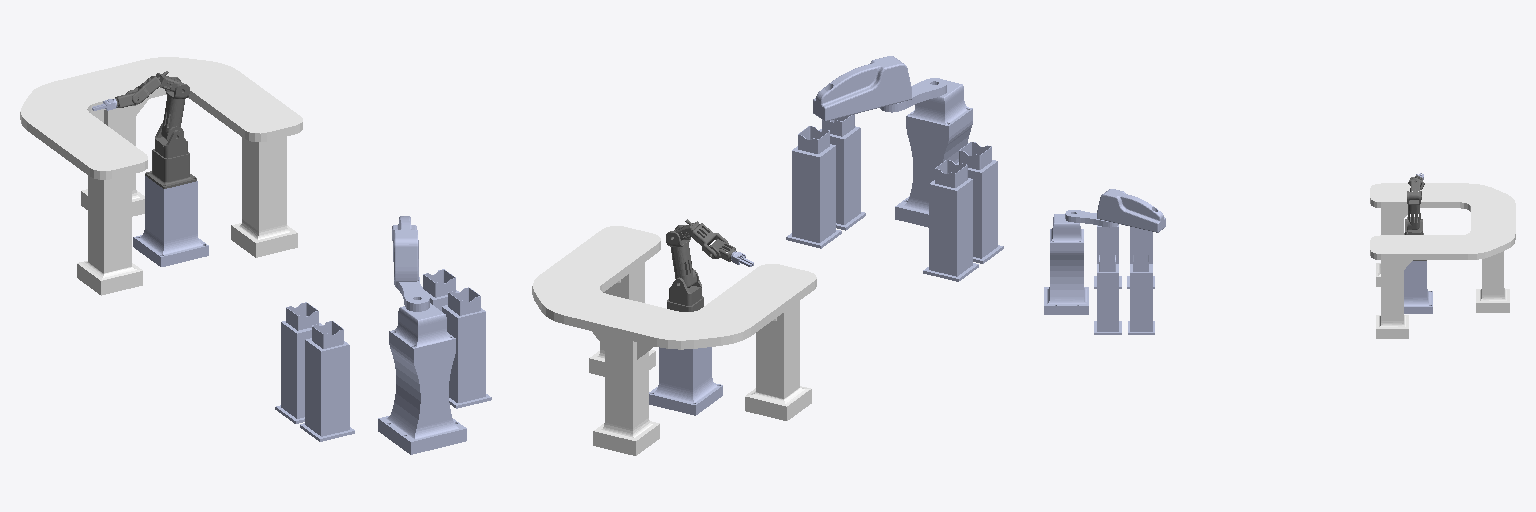
URDF robot description (fertig):
<?xml version="1.0" encoding="utf-8" ?>
<!-- This URDF was automatically created by SolidWorks to URDF Exporter! Originally created by [author] ([email redacted]) 
     Commit Version: 1.6.0-4-g7f85cfe  Build Version: 1.6.7995.38578
     For more information, please see http://wiki.ros.org/sw_urdf_exporter -->
<robot name="fertig">
    <link name="world_link">
        <inertial>
            <origin xyz="-0.379999991843833 -0.241999995946268 0.282642145469613" rpy="0 0 0" />
            <mass value="56.5143635061382" />
            <inertia ixx="3.10383758638064" ixy="9.38103874984791E-07" ixz="-4.57009880018047E-07" iyy="3.00109559506483" iyz="3.89931023738117E-08" izz="0.915005919197952" />
        </inertial>
        <visual>
            <origin xyz="0 0 0" rpy="0 0 0" />
            <geometry>
                <mesh filename="package://fertig/meshes/world_link.STL" />
            </geometry>
            <material name="">
                <color rgba="0.792156862745098 0.819607843137255 0.933333333333333 1" />
            </material>
        </visual>
        <collision>
            <origin xyz="0 0 0" rpy="0 0 0" />
            <geometry>
                <mesh filename="package://fertig/meshes/world_link.STL" />
            </geometry>
        </collision>
    </link>
    <link name="scara_link_base">
        <inertial>
            <origin xyz="4.11981024295294E-09 -0.00144952651535979 0.0824742549468586" rpy="0 0 0" />
            <mass value="10.0938987184175" />
            <inertia ixx="0.0864487528577416" ixy="-7.67600083955194E-08" ixz="-3.54288604367275E-09" iyy="0.0762174394798054" iyz="0.000783155397267453" izz="0.100368960083761" />
        </inertial>
        <visual>
            <origin xyz="0 0 0" rpy="0 0 0" />
            <geometry>
                <mesh filename="package://fertig/meshes/scara_link_base.STL" />
            </geometry>
            <material name="">
                <color rgba="0.792156862745098 0.819607843137255 0.933333333333333 1" />
            </material>
        </visual>
        <collision>
            <origin xyz="0 0 0" rpy="0 0 0" />
            <geometry>
                <mesh filename="package://fertig/meshes/scara_link_base.STL" />
            </geometry>
        </collision>
    </link>
    <joint name="scara_joint_base" type="fixed">
        <origin xyz="-0.38 -0.242 0.650000000000001" rpy="0 0 0" />
        <parent link="world_link" />
        <child link="scara_link_base" />
        <axis xyz="0 0 0" />
    </joint>
    <link name="scara_link_1">
        <inertial>
            <origin xyz="0.0554575444614114 0.165564551542479 0.0275000000000013" rpy="0 0 0" />
            <mass value="3.3230838247481" />
            <inertia ixx="0.0576270026353464" ixy="-0.0171642772796708" ixz="-2.75711369663395E-18" iyy="0.0119905480517804" iyz="-7.73107852038133E-18" izz="0.0679421595859383" />
        </inertial>
        <visual>
            <origin xyz="0 0 0" rpy="0 0 0" />
            <geometry>
                <mesh filename="package://fertig/meshes/scara_link_1.STL" />
            </geometry>
            <material name="">
                <color rgba="0.792156862745098 0.819607843137255 0.933333333333333 1" />
            </material>
        </visual>
        <collision>
            <origin xyz="0 0 0" rpy="0 0 0" />
            <geometry>
                <mesh filename="package://fertig/meshes/scara_link_1.STL" />
            </geometry>
        </collision>
    </link>
    <joint name="scara_joint_1" type="revolute">
        <origin xyz="0 0.062 0.186" rpy="0 0 0" />
        <parent link="scara_link_base" />
        <child link="scara_link_1" />
        <axis xyz="0 0 -1" />
        <limit lower="-2.5" upper="2.5" effort="0" velocity="0" />
    </joint>
    <link name="scara_link_2">
        <inertial>
            <origin xyz="0.084623793875894 0.153636740232548 0.109919168493605" rpy="0 0 0" />
            <mass value="17.9237237949378" />
            <inertia ixx="0.486676041203974" ixy="-0.20205161891764" ixz="0.0238411475845364" iyy="0.231136918692326" iyz="0.043284241977989" izz="0.538887927908261" />
        </inertial>
        <visual>
            <origin xyz="0 0 0" rpy="0 0 0" />
            <geometry>
                <mesh filename="package://fertig/meshes/scara_link_2.STL" />
            </geometry>
            <material name="">
                <color rgba="0.792156862745098 0.819607843137255 0.933333333333333 1" />
            </material>
        </visual>
        <collision>
            <origin xyz="0 0 0" rpy="0 0 0" />
            <geometry>
                <mesh filename="package://fertig/meshes/scara_link_2.STL" />
            </geometry>
        </collision>
    </link>
    <joint name="scara_joint_2" type="revolute">
        <origin xyz="0.11092 0.33154 0.055" rpy="0 0 0" />
        <parent link="scara_link_1" />
        <child link="scara_link_2" />
        <axis xyz="0 0 -1" />
        <limit lower="-2.5" upper="2.5" effort="0" velocity="0" />
    </joint>
    <link name="scara_link_3">
        <inertial>
            <origin xyz="-5.48198860028659E-07 3.08047934466371E-07 -0.191819389863616" rpy="0 0 0" />
            <mass value="1.09878914470562" />
            <inertia ixx="0.0202026345558292" ixy="1.46163302702154E-08" ixz="-2.9902926720251E-09" iyy="0.0202026586253473" iyz="5.4617905886984E-09" izz="0.000398979796591897" />
        </inertial>
        <visual>
            <origin xyz="0 0 0" rpy="0 0 0" />
            <geometry>
                <mesh filename="package://fertig/meshes/scara_link_3.STL" />
            </geometry>
            <material name="">
                <color rgba="0.792156862745098 0.819607843137255 0.933333333333333 1" />
            </material>
        </visual>
        <collision>
            <origin xyz="0 0 0" rpy="0 0 0" />
            <geometry>
                <mesh filename="package://fertig/meshes/scara_link_3.STL" />
            </geometry>
        </collision>
    </link>
    <joint name="scara_joint_3" type="prismatic">
        <origin xyz="0.21711 0.39416 0" rpy="3.1416 0 -3.1416" />
        <parent link="scara_link_2" />
        <child link="scara_link_3" />
        <axis xyz="0 0 -1" />
        <limit lower="-2.5" upper="2.5" effort="0" velocity="0" />
    </joint>
    <link name="boxes">
        <inertial>
            <origin xyz="0.360011118600685 0.27521364223783 0.278912194799361" rpy="0 0 0" />
            <mass value="99.0267308175771" />
            <inertia ixx="3.36896676113991" ixy="7.18898608773253E-11" ixz="-1.42061685292724E-06" iyy="3.36911900381237" iyz="-6.30751704044779E-09" izz="0.678298179608551" />
        </inertial>
        <visual>
            <origin xyz="0 0 0" rpy="0 0 0" />
            <geometry>
                <mesh filename="package://fertig/meshes/boxes.STL" />
            </geometry>
            <material name="">
                <color rgba="0.792156862745098 0.819607843137255 0.933333333333333 1" />
            </material>
        </visual>
        <collision>
            <origin xyz="0 0 0" rpy="0 0 0" />
            <geometry>
                <mesh filename="package://fertig/meshes/boxes.STL" />
            </geometry>
        </collision>
    </link>
    <joint name="boxes" type="fixed">
        <origin xyz="-0.719999999999999 0 0" rpy="0 0 0" />
        <parent link="world_link" />
        <child link="boxes" />
        <axis xyz="0 0 0" />
    </joint>
    <link name="knickarm_sockel">
        <inertial>
            <origin xyz="0.170000000008435 0.170000000008423 0.222253510440883" rpy="0 0 0" />
            <mass value="33.1902670854663" />
            <inertia ixx="0.969242711259421" ixy="7.47530158539784E-17" ixz="3.18870986264805E-11" iyy="0.96924271125942" iyz="3.18429869567209E-11" izz="0.397801462826718" />
        </inertial>
        <visual>
            <origin xyz="0 0 0" rpy="0 0 0" />
            <geometry>
                <mesh filename="package://fertig/meshes/knickarm_sockel.STL" />
            </geometry>
            <material name="">
                <color rgba="0.792156862745098 0.819607843137255 0.933333333333333 1" />
            </material>
        </visual>
        <collision>
            <origin xyz="0 0 0" rpy="0 0 0" />
            <geometry>
                <mesh filename="package://fertig/meshes/knickarm_sockel.STL" />
            </geometry>
        </collision>
    </link>
    <joint name="knickarm_sockel" type="fixed">
        <origin xyz="-0.545000000000015 2.693 -0.0199999999999988" rpy="0 0 0" />
        <parent link="world_link" />
        <child link="knickarm_sockel" />
        <axis xyz="0 0 0" />
    </joint>
    <link name="knick_base_link">
        <inertial>
            <origin xyz="5.55111512312578E-17 0 0.0831886098900351" rpy="0 0 0" />
            <mass value="6.13619139503562" />
            <inertia ixx="0.0358502952817987" ixy="1.24550570065579E-17" ixz="2.77322340586902E-18" iyy="0.0358502952817986" iyz="-3.01901372422557E-17" izz="0.0367184665537518" />
        </inertial>
        <visual>
            <origin xyz="0 0 0" rpy="0 0 0" />
            <geometry>
                <mesh filename="package://fertig/meshes/knick_base_link.STL" />
            </geometry>
            <material name="">
                <color rgba="0.501960784313725 0.501960784313725 0.501960784313725 1" />
            </material>
        </visual>
        <collision>
            <origin xyz="0 0 0" rpy="0 0 0" />
            <geometry>
                <mesh filename="package://fertig/meshes/knick_base_link.STL" />
            </geometry>
        </collision>
    </link>
    <joint name="knick_base_joint" type="fixed">
        <origin xyz="0.17 0.17 0.5" rpy="0 0 0" />
        <parent link="knickarm_sockel" />
        <child link="knick_base_link" />
        <axis xyz="0 0 0" />
    </joint>
    <link name="knick_link1">
        <inertial>
            <origin xyz="2.39423167756603E-05 0.0010240364179781 0.0522188072773566" rpy="0 0 0" />
            <mass value="1.51482515033565" />
            <inertia ixx="0.00708081683843717" ixy="-3.18073734412148E-05" ixz="-4.89552296678815E-07" iyy="0.00592760506272545" iyz="-3.16730446962948E-05" izz="0.0078063707821689" />
        </inertial>
        <visual>
            <origin xyz="0 0 0" rpy="0 0 0" />
            <geometry>
                <mesh filename="package://fertig/meshes/knick_link1.STL" />
            </geometry>
            <material name="">
                <color rgba="0.501960784313725 0.501960784313725 0.501960784313725 1" />
            </material>
        </visual>
        <collision>
            <origin xyz="0 0 0" rpy="0 0 0" />
            <geometry>
                <mesh filename="package://fertig/meshes/knick_link1.STL" />
            </geometry>
        </collision>
    </link>
    <joint name="knick_joint1" type="revolute">
        <origin xyz="0 0 0.18" rpy="0 0 0" />
        <parent link="knick_base_link" />
        <child link="knick_link1" />
        <axis xyz="0 0 1" />
        <limit lower="-3" upper="3" effort="0" velocity="0" />
    </joint>
    <link name="knick_link2">
        <inertial>
            <origin xyz="-0.0211617911626847 0.122623282821051 0.0617606178597971" rpy="0 0 0" />
            <mass value="2.94963721988334" />
            <inertia ixx="0.0336504890440506" ixy="0.00481091926517843" ixz="0.000200207164863983" iyy="0.00659891776889086" iyz="-0.00116004183551096" izz="0.0330918774402128" />
        </inertial>
        <visual>
            <origin xyz="0 0 0" rpy="0 0 0" />
            <geometry>
                <mesh filename="package://fertig/meshes/knick_link2.STL" />
            </geometry>
            <material name="">
                <color rgba="0.501960784313725 0.501960784313725 0.501960784313725 1" />
            </material>
        </visual>
        <collision>
            <origin xyz="0 0 0" rpy="0 0 0" />
            <geometry>
                <mesh filename="package://fertig/meshes/knick_link2.STL" />
            </geometry>
        </collision>
    </link>
    <joint name="knick_joint2" type="revolute">
        <origin xyz="-0.00165 -0.059977 0.13" rpy="1.5708 0 3.1141" />
        <parent link="knick_link1" />
        <child link="knick_link2" />
        <axis xyz="0 0 1" />
        <limit lower="-3" upper="3" effort="0" velocity="0" />
    </joint>
    <link name="knick_link3">
        <inertial>
            <origin xyz="0.0385442987200408 0.0215860684868259 0.0473648804877551" rpy="0 0 0" />
            <mass value="0.491452097756812" />
            <inertia ixx="0.00108430376684807" ixy="-0.000668814930747442" ixz="-5.20576415471871E-05" iyy="0.00190416250100467" iyz="-2.9145455005666E-05" izz="0.00208350057092462" />
        </inertial>
        <visual>
            <origin xyz="0 0 0" rpy="0 0 0" />
            <geometry>
                <mesh filename="package://fertig/meshes/knick_link3.STL" />
            </geometry>
            <material name="">
                <color rgba="0.501960784313725 0.501960784313725 0.501960784313725 1" />
            </material>
        </visual>
        <collision>
            <origin xyz="0 0 0" rpy="0 0 0" />
            <geometry>
                <mesh filename="package://fertig/meshes/knick_link3.STL" />
            </geometry>
        </collision>
    </link>
    <joint name="knick_joint3" type="revolute">
        <origin xyz="-0.051008 0.29563 0.02" rpy="0 0 0" />
        <parent link="knick_link2" />
        <child link="knick_link3" />
        <axis xyz="0 0 1" />
        <limit lower="-3" upper="3" effort="0" velocity="0" />
    </joint>
    <link name="knick_link4">
        <inertial>
            <origin xyz="-0.0048361 -0.00090776 0.089602" rpy="0 0 0" />
            <mass value="0.98805" />
            <inertia ixx="0.0040653" ixy="-0.00041131" ixz="6.4537E-06" iyy="0.0047977" iyz="2.895E-06" izz="0.0018287" />
        </inertial>
        <visual>
            <origin xyz="0 0 0" rpy="0 0 0" />
            <geometry>
                <mesh filename="package://fertig/meshes/knick_link4.STL" />
            </geometry>
            <material name="">
                <color rgba="0.50196 0.50196 0.50196 1" />
            </material>
        </visual>
        <collision>
            <origin xyz="0 0 0" rpy="0 0 0" />
            <geometry>
                <mesh filename="package://fertig/meshes/knick_link4.STL" />
            </geometry>
        </collision>
    </link>
    <joint name="knick_joint4" type="revolute">
        <origin xyz="0.13566 0.074989 0.052879" rpy="0.5106 1.5708 0" />
        <parent link="knick_link3" />
        <child link="knick_link4" />
        <axis xyz="0 0 1" />
        <limit lower="-3" upper="3" effort="0" velocity="0" />
    </joint>
    <link name="knick_link5">
        <inertial>
            <origin xyz="0.025465 0.037495 0.049535" rpy="0 0 0" />
            <mass value="0.31824" />
            <inertia ixx="0.00094962" ixy="-0.000318" ixz="8.623E-05" iyy="0.00069697" iyz="0.00012766" izz="0.0010627" />
        </inertial>
        <visual>
            <origin xyz="0 0 0" rpy="0 0 0" />
            <geometry>
                <mesh filename="package://fertig/meshes/knick_link5.STL" />
            </geometry>
            <material name="">
                <color rgba="0.50196 0.50196 0.50196 1" />
            </material>
        </visual>
        <collision>
            <origin xyz="0 0 0" rpy="0 0 0" />
            <geometry>
                <mesh filename="package://fertig/meshes/knick_link5.STL" />
            </geometry>
        </collision>
    </link>
    <joint name="knick_joint5" type="revolute">
        <origin xyz="0.035397 0.01714 0.185" rpy="1.5708 -1.0202 -1.1491" />
        <parent link="knick_link4" />
        <child link="knick_link5" />
        <axis xyz="0 0 1" />
        <limit lower="-3" upper="3" effort="0" velocity="0" />
    </joint>
    <link name="knick_link6">
        <inertial>
            <origin xyz="-1.08396188771565E-05 2.16971466906468E-05 0.0451830670747682" rpy="0 0 0" />
            <mass value="0.226630428770624" />
            <inertia ixx="0.00013486308565457" ixy="-1.59026842796774E-05" ixz="-4.18492980674188E-09" iyy="0.000158728575069332" iyz="8.45820003110474E-09" izz="0.000104997312802144" />
        </inertial>
        <visual>
            <origin xyz="0 0 0" rpy="0 0 0" />
            <geometry>
                <mesh filename="package://fertig/meshes/knick_link6.STL" />
            </geometry>
            <material name="">
                <color rgba="0.792156862745098 0.819607843137255 0.933333333333333 1" />
            </material>
        </visual>
        <collision>
            <origin xyz="0 0 0" rpy="0 0 0" />
            <geometry>
                <mesh filename="package://fertig/meshes/knick_link6.STL" />
            </geometry>
        </collision>
    </link>
    <joint name="knick_joint6" type="revolute">
        <origin xyz="0.07015 0.10346 0.039" rpy="-1.5708 0.97279 -0.59583" />
        <parent link="knick_link5" />
        <child link="knick_link6" />
        <axis xyz="0 0 1" />
        <limit lower="3" upper="3" effort="0" velocity="0" />
    </joint>
    <link name="tisch">
        <inertial>
            <origin xyz="0 0 0" rpy="0 0 0" />
            <mass value="0" />
            <inertia ixx="0" ixy="0" ixz="0" iyy="0" iyz="0" izz="0" />
        </inertial>
        <visual>
            <origin xyz="0 0 0" rpy="0 0 0" />
            <geometry>
                <mesh filename="package://fertig/meshes/tisch.STL" />
            </geometry>
            <material name="">
                <color rgba="1 1 1 1" />
            </material>
        </visual>
        <collision>
            <origin xyz="0 0 0" rpy="0 0 0" />
            <geometry>
                <mesh filename="package://fertig/meshes/tisch.STL" />
            </geometry>
        </collision>
    </link>
    <joint name="tisch" type="fixed">
        <origin xyz="-1.07 2.523 -0.0199999999999989" rpy="1.5707963267949 -1.5707963267949 0" />
        <parent link="world_link" />
        <child link="tisch" />
        <axis xyz="0 0 0" />
    </joint>
    <transmission name="trans_scara_joint_1">
        <type>transmission_interface/SimpleTransmission</type>
        <joint name="scara_joint_1">
            <hardwareInterface>hardware_interface/PositionJointInterface</hardwareInterface>
        </joint>
        <actuator name="scara_joint_1_motor">
            <hardwareInterface>hardware_interface/PositionJointInterface</hardwareInterface>
            <mechanicalReduction>1</mechanicalReduction>
        </actuator>
    </transmission>
    <transmission name="trans_scara_joint_2">
        <type>transmission_interface/SimpleTransmission</type>
        <joint name="scara_joint_2">
            <hardwareInterface>hardware_interface/PositionJointInterface</hardwareInterface>
        </joint>
        <actuator name="scara_joint_2_motor">
            <hardwareInterface>hardware_interface/PositionJointInterface</hardwareInterface>
            <mechanicalReduction>1</mechanicalReduction>
        </actuator>
    </transmission>
    <transmission name="trans_scara_joint_3">
        <type>transmission_interface/SimpleTransmission</type>
        <joint name="scara_joint_3">
            <hardwareInterface>hardware_interface/PositionJointInterface</hardwareInterface>
        </joint>
        <actuator name="scara_joint_3_motor">
            <hardwareInterface>hardware_interface/PositionJointInterface</hardwareInterface>
            <mechanicalReduction>1</mechanicalReduction>
        </actuator>
    </transmission>
    <transmission name="trans_knick_joint1">
        <type>transmission_interface/SimpleTransmission</type>
        <joint name="knick_joint1">
            <hardwareInterface>hardware_interface/PositionJointInterface</hardwareInterface>
        </joint>
        <actuator name="knick_joint1_motor">
            <hardwareInterface>hardware_interface/PositionJointInterface</hardwareInterface>
            <mechanicalReduction>1</mechanicalReduction>
        </actuator>
    </transmission>
    <transmission name="trans_knick_joint2">
        <type>transmission_interface/SimpleTransmission</type>
        <joint name="knick_joint2">
            <hardwareInterface>hardware_interface/PositionJointInterface</hardwareInterface>
        </joint>
        <actuator name="knick_joint2_motor">
            <hardwareInterface>hardware_interface/PositionJointInterface</hardwareInterface>
            <mechanicalReduction>1</mechanicalReduction>
        </actuator>
    </transmission>
    <transmission name="trans_knick_joint3">
        <type>transmission_interface/SimpleTransmission</type>
        <joint name="knick_joint3">
            <hardwareInterface>hardware_interface/PositionJointInterface</hardwareInterface>
        </joint>
        <actuator name="knick_joint3_motor">
            <hardwareInterface>hardware_interface/PositionJointInterface</hardwareInterface>
            <mechanicalReduction>1</mechanicalReduction>
        </actuator>
    </transmission>
    <transmission name="trans_knick_joint4">
        <type>transmission_interface/SimpleTransmission</type>
        <joint name="knick_joint4">
            <hardwareInterface>hardware_interface/PositionJointInterface</hardwareInterface>
        </joint>
        <actuator name="knick_joint4_motor">
            <hardwareInterface>hardware_interface/PositionJointInterface</hardwareInterface>
            <mechanicalReduction>1</mechanicalReduction>
        </actuator>
    </transmission>
    <transmission name="trans_knick_joint5">
        <type>transmission_interface/SimpleTransmission</type>
        <joint name="knick_joint5">
            <hardwareInterface>hardware_interface/PositionJointInterface</hardwareInterface>
        </joint>
        <actuator name="knick_joint5_motor">
            <hardwareInterface>hardware_interface/PositionJointInterface</hardwareInterface>
            <mechanicalReduction>1</mechanicalReduction>
        </actuator>
    </transmission>
    <transmission name="trans_knick_joint6">
        <type>transmission_interface/SimpleTransmission</type>
        <joint name="knick_joint6">
            <hardwareInterface>hardware_interface/PositionJointInterface</hardwareInterface>
        </joint>
        <actuator name="knick_joint6_motor">
            <hardwareInterface>hardware_interface/PositionJointInterface</hardwareInterface>
            <mechanicalReduction>1</mechanicalReduction>
        </actuator>
    </transmission>
    <gazebo>
        <plugin name="gazebo_ros_control" filename="libgazebo_ros_control.so">
            <robotNamespace>/</robotNamespace>
        </plugin>
    </gazebo>
</robot>

--- What the picture shows (computed from the rendered views, not written in the file) ---
Views: 3 orthographic renders of the robot side by side, from view 1: azimuth 30°, elevation 25°; view 2: azimuth 150°, elevation 25°; view 3: azimuth 270°, elevation 25°.
Model fertig with 15 links and 14 joints (8 revolute, 1 prismatic, 5 fixed), rooted at world_link, posed joints at zero except 1 at the middle of their limits (knick_joint6 = 3).
Visible links, largest first — view 1: tisch, boxes, world_link, knickarm_sockel, scara_link_base, scara_link_2, knick_base_link, knick_link2, scara_link_1, knick_link1; view 2: tisch, boxes, scara_link_2, world_link, knickarm_sockel, scara_link_base, knick_link2, scara_link_1, knick_link1, knick_link4; view 3: tisch, boxes, world_link, scara_link_2, knickarm_sockel, scara_link_base.
Boxes of the visible links, left/top/right/bottom form: tisch: left=20, top=57, right=302, bottom=295; boxes: left=275, top=269, right=491, bottom=441; world_link: left=378, top=334, right=466, bottom=454; knickarm_sockel: left=133, top=176, right=208, bottom=266; scara_link_base: left=389, top=303, right=455, bottom=351; scara_link_2: left=392, top=216, right=418, bottom=281; knick_base_link: left=145, top=149, right=196, bottom=188; knick_link2: left=161, top=77, right=189, bottom=140; scara_link_1: left=394, top=277, right=429, bottom=311; knick_link1: left=155, top=123, right=187, bottom=158; tisch: left=532, top=226, right=816, bottom=455; boxes: left=786, top=114, right=1003, bottom=281; scara_link_2: left=813, top=56, right=911, bottom=121; world_link: left=895, top=112, right=972, bottom=227; knickarm_sockel: left=649, top=347, right=722, bottom=415; scara_link_base: left=906, top=80, right=972, bottom=128; knick_link2: left=666, top=225, right=698, bottom=287; scara_link_1: left=880, top=78, right=946, bottom=112; knick_link1: left=669, top=277, right=701, bottom=305; knick_link4: left=685, top=219, right=728, bottom=258; tisch: left=1370, top=183, right=1515, bottom=338; boxes: left=1094, top=225, right=1154, bottom=334; world_link: left=1044, top=245, right=1088, bottom=314; scara_link_2: left=1097, top=189, right=1165, bottom=232; knickarm_sockel: left=1404, top=261, right=1432, bottom=313; scara_link_base: left=1050, top=214, right=1083, bottom=244.
Size in the robot's own frame: 1.5 by 4.21 by 1.23 metres.
14 mesh visuals loaded from 15 distinct referenced files (14 binary STL); not drawn: 1 (reference not matched to a file when rendering).